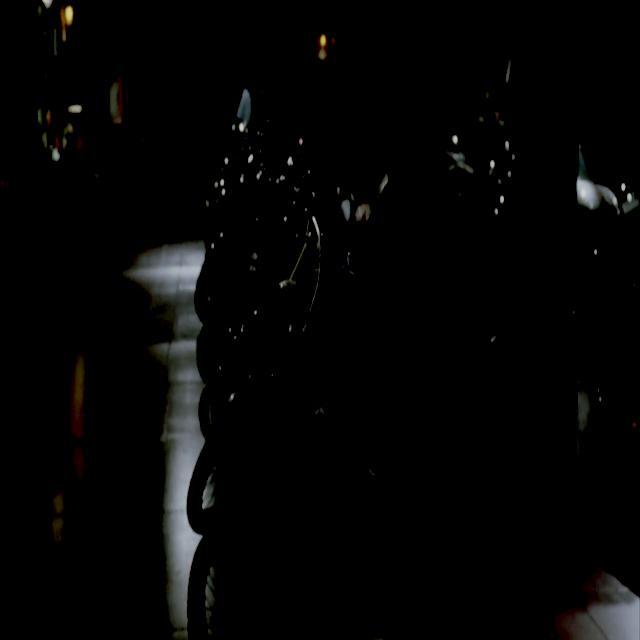Motorbike: (186, 91, 521, 566)
